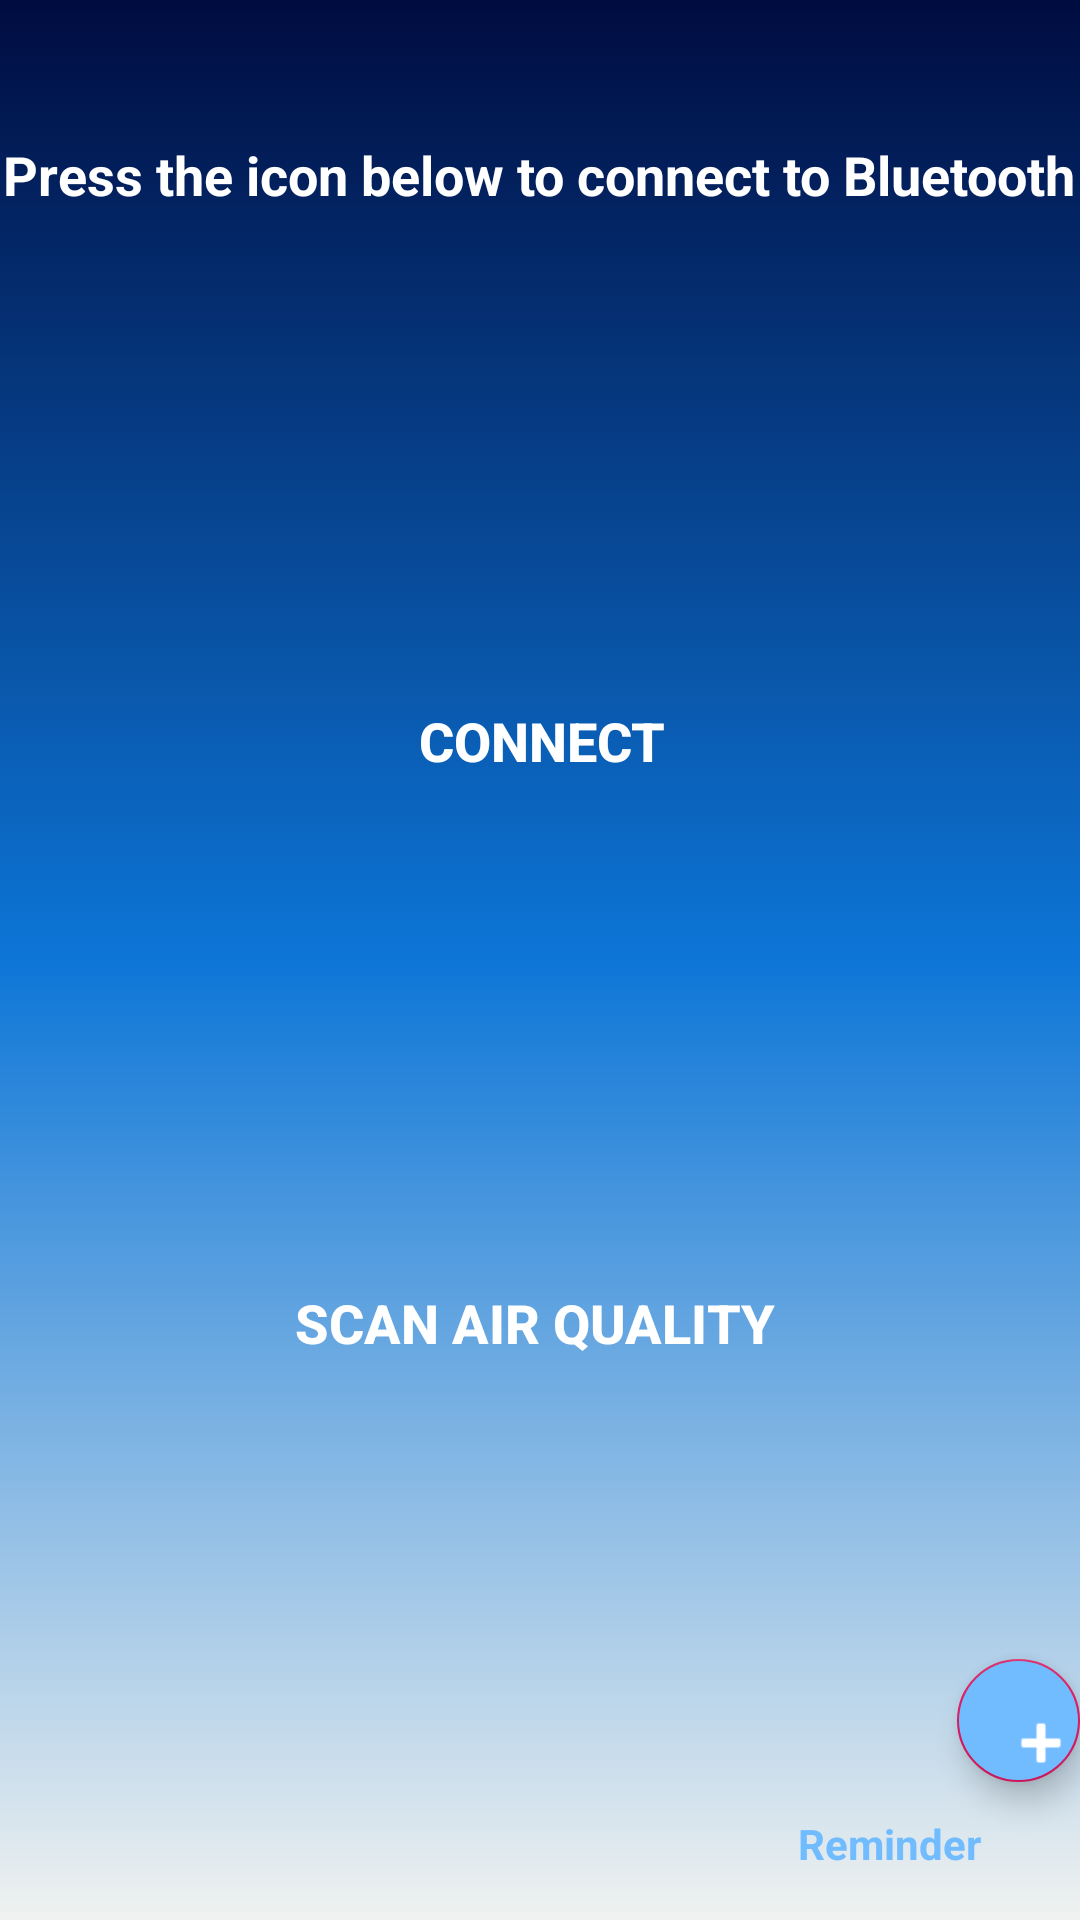

Where to tap for icons on this 1080 x 1920 app screen, as (x,y):
add: (1018,1720)
